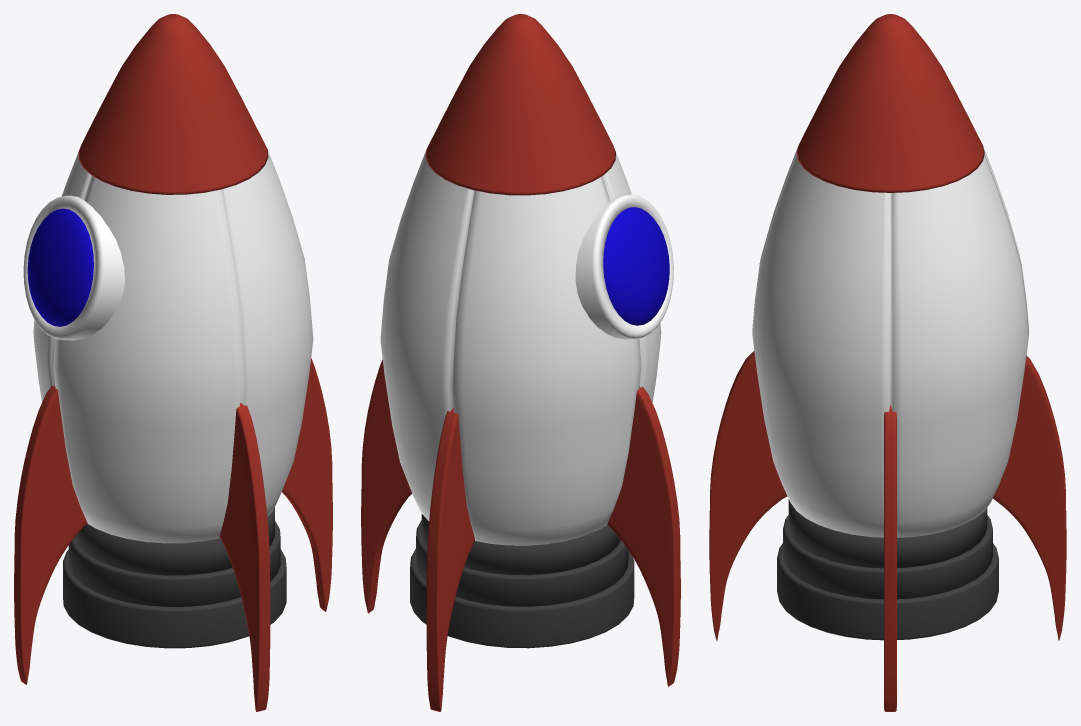
Rendered from Rocket.fbx.
3 renders of one model, left to right at view 1: azimuth 30°, elevation 25°; view 2: azimuth 150°, elevation 25°; view 3: azimuth 270°, elevation 25°, orthographic.
Parts seen in each view (by area): view 1: Body; view 2: Body; view 3: Body.
Part boxes in pixels (<box>): Body: <box>14,14,332,711</box>; Body: <box>361,14,680,711</box>; Body: <box>709,14,1066,711</box>.
Bounding box in the file's own units: 38.77 × 74.48 × 38.77.
